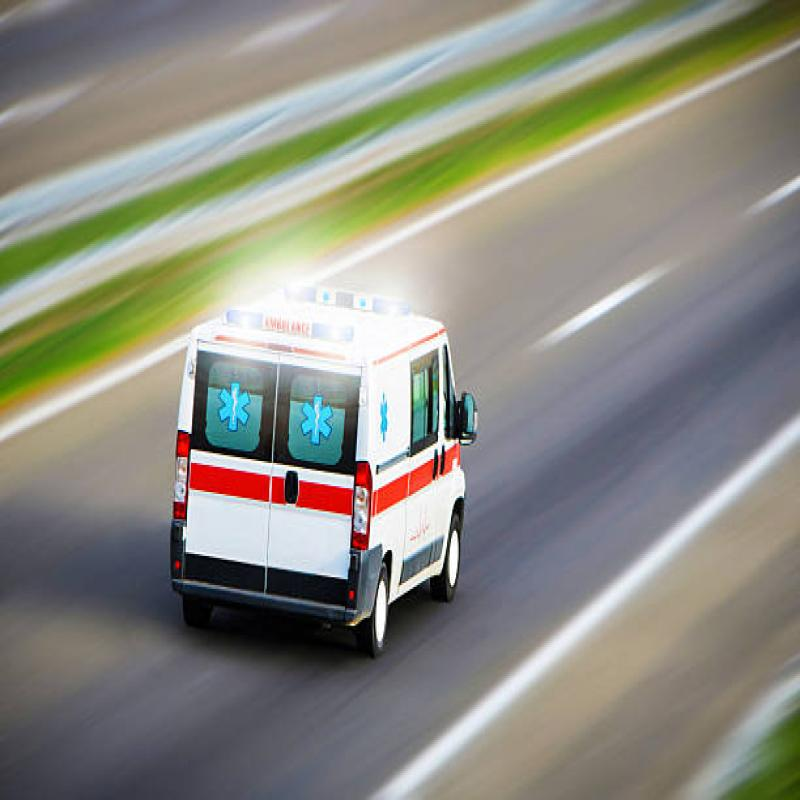ambulance: (150, 264, 484, 664)
